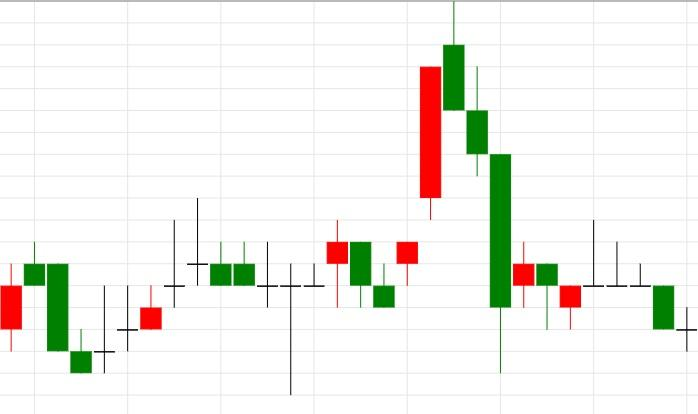three_black_crows_fall: (373, 2, 511, 373)
